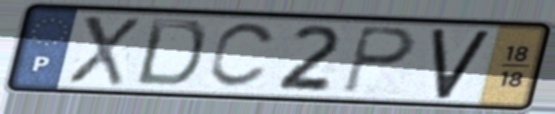2: (273, 23, 342, 94)
C: (204, 20, 281, 91)
D: (132, 16, 209, 90)
P: (340, 24, 419, 96)
V: (429, 27, 495, 101)
X: (64, 13, 142, 88)
